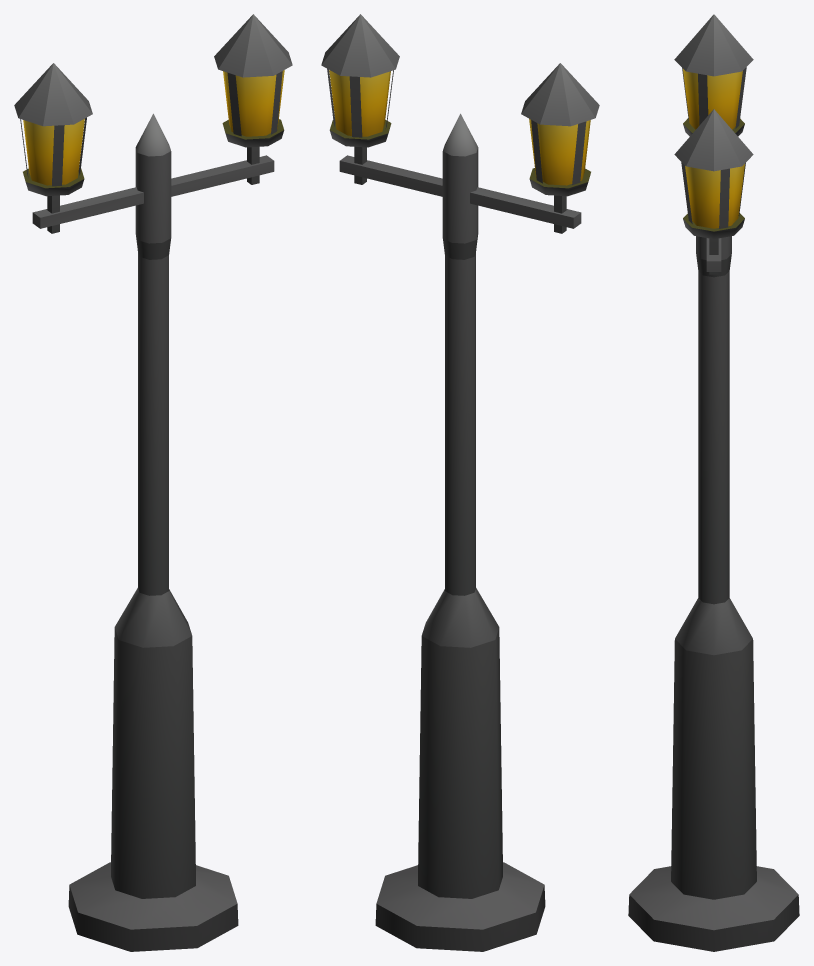
File: Street_Lamp.fbx
The picture shows the model from 3 angles, left to right: view 1: azimuth 30°, elevation 25°; view 2: azimuth 150°, elevation 25°; view 3: azimuth 270°, elevation 25°; orthographic projection. The views are drawn at different scales.
Parts seen in each view (by area): view 1: Street_lamp; view 2: Street_lamp; view 3: Street_lamp.
Part boxes in pixels (left/top/right/bottom): Street_lamp: left=14, top=14, right=292, bottom=951; Street_lamp: left=321, top=14, right=599, bottom=951; Street_lamp: left=628, top=14, right=799, bottom=951.
Bounding box in the file's own units: 123 × 382 × 69.37.
